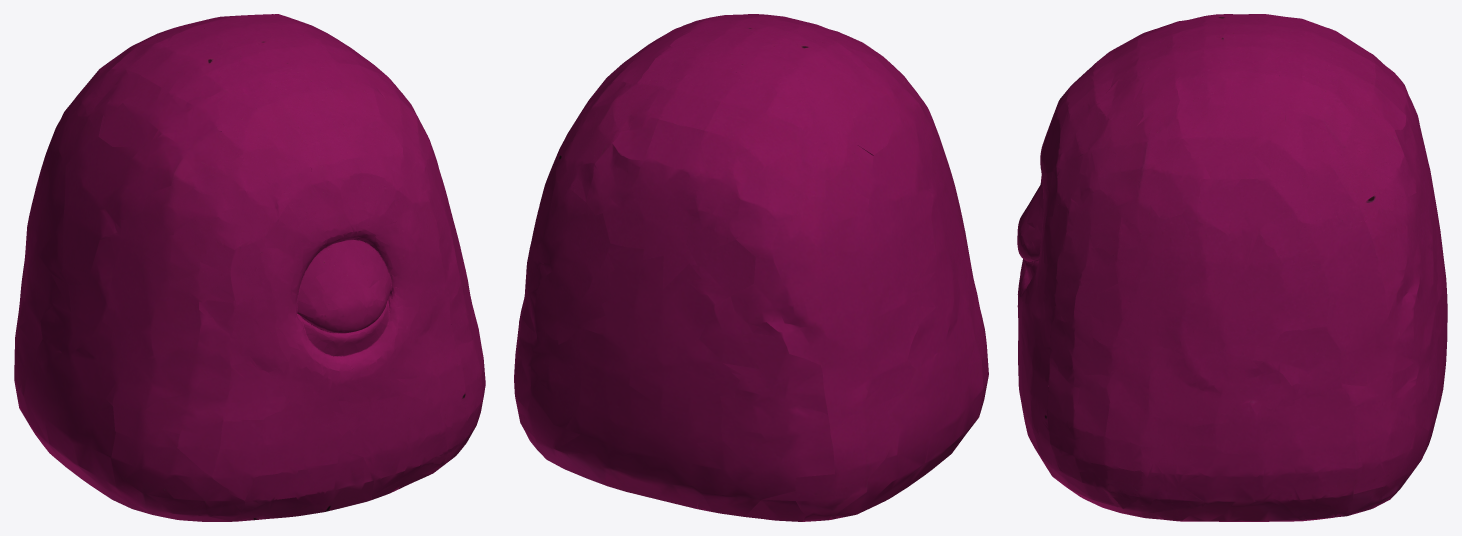
File: slammer.glb
The picture shows the model from 3 angles, left to right: view 1: azimuth 30°, elevation 25°; view 2: azimuth 150°, elevation 25°; view 3: azimuth 270°, elevation 25°; orthographic projection.
Bounding box in the file's own units: 1.85 × 1.9 × 1.77.
Materials: 1 (1 with a texture image).
